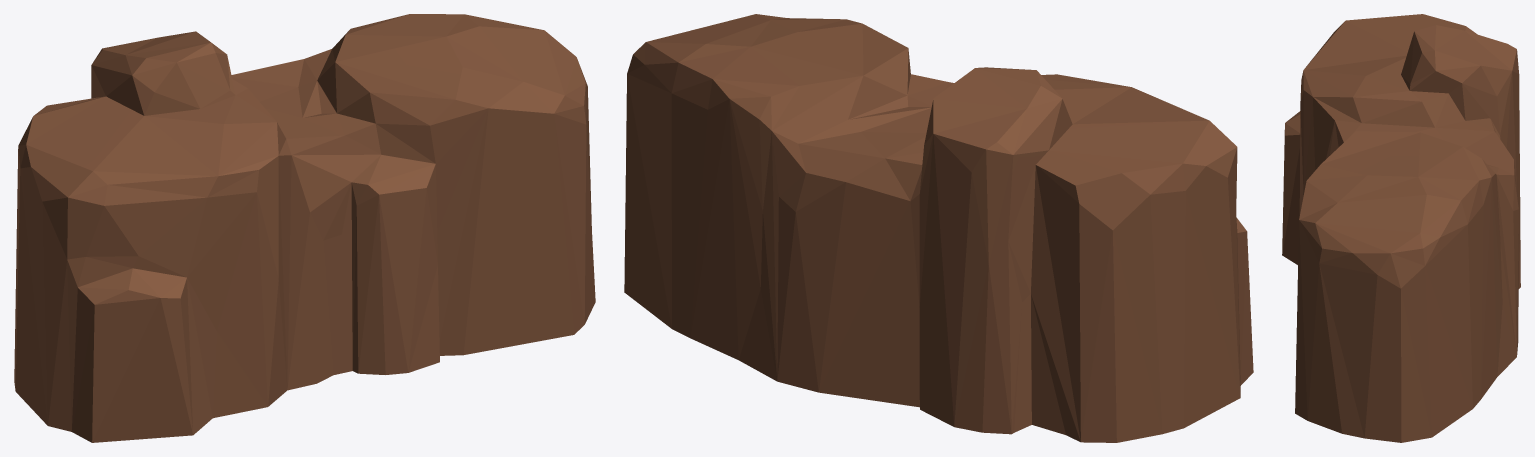
File: SM_Env_RockTall_03.glb
The picture shows the model from 3 angles, left to right: view 1: azimuth 30°, elevation 25°; view 2: azimuth 150°, elevation 25°; view 3: azimuth 270°, elevation 25°; orthographic projection. The views are drawn at different scales.
Parts seen in each view (by area): view 1: SM_Env_RockTall_03; view 2: SM_Env_RockTall_03; view 3: SM_Env_RockTall_03.
Part boxes in pixels (x1,y1,x2,y2): SM_Env_RockTall_03: (14,14,595,442); SM_Env_RockTall_03: (624,14,1253,442); SM_Env_RockTall_03: (1282,14,1520,442).
Bounding box in the file's own units: 15.01 × 7.67 × 6.64.
1 material, 1 textured.
